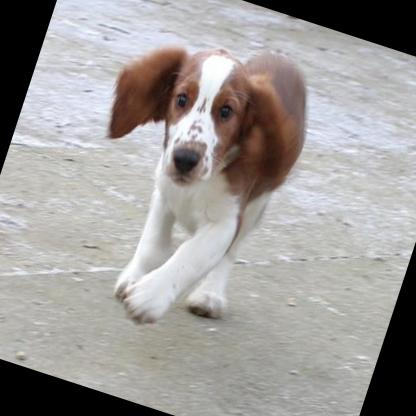Welsh_springer_spaniel: (44, 0, 335, 356)
